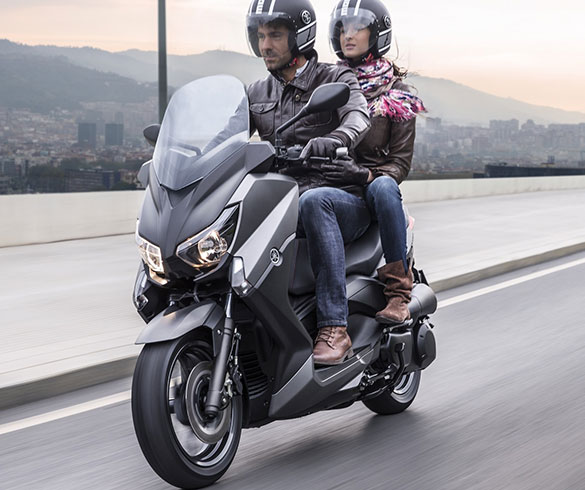helmet: (241, 1, 319, 60), (328, 1, 395, 59)
motorcycle: (135, 74, 435, 490)
